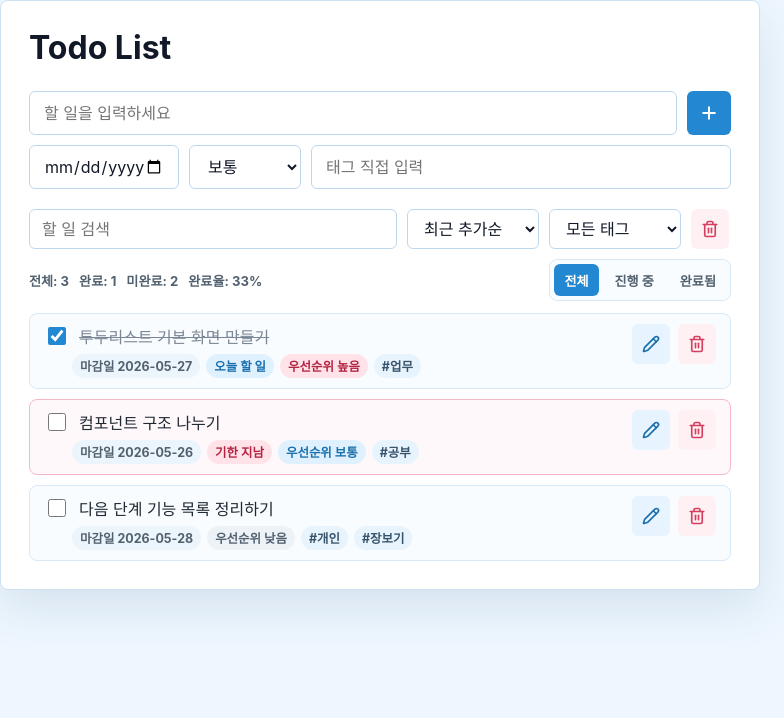
Test: TodoApp › 추가된 할 일을 수정할 수 있다.
In the field named "할 일 입력": (353, 113) [29,91,677,135], type "수정 전 할 일"
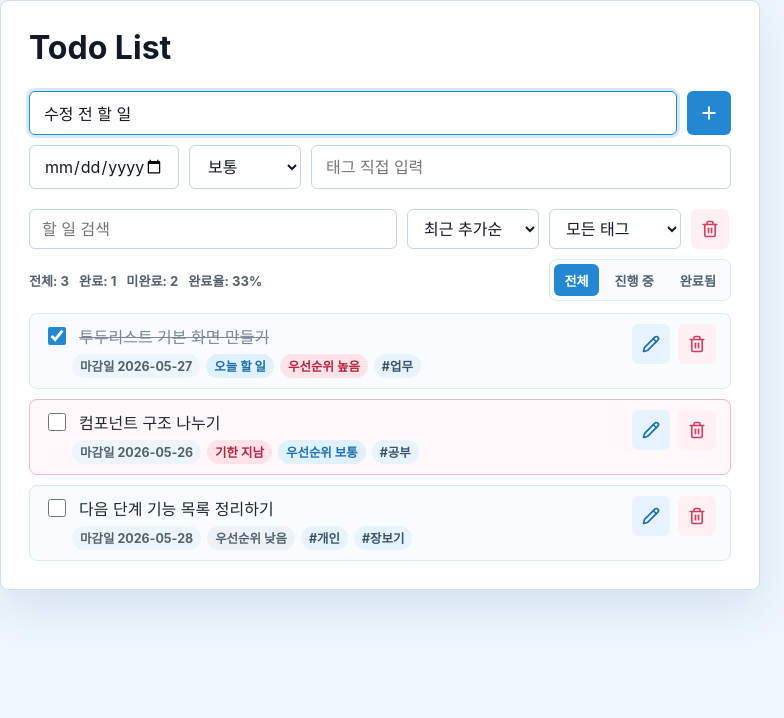
Click the button named "할 일 추가": (709, 113) [687,91,731,135]
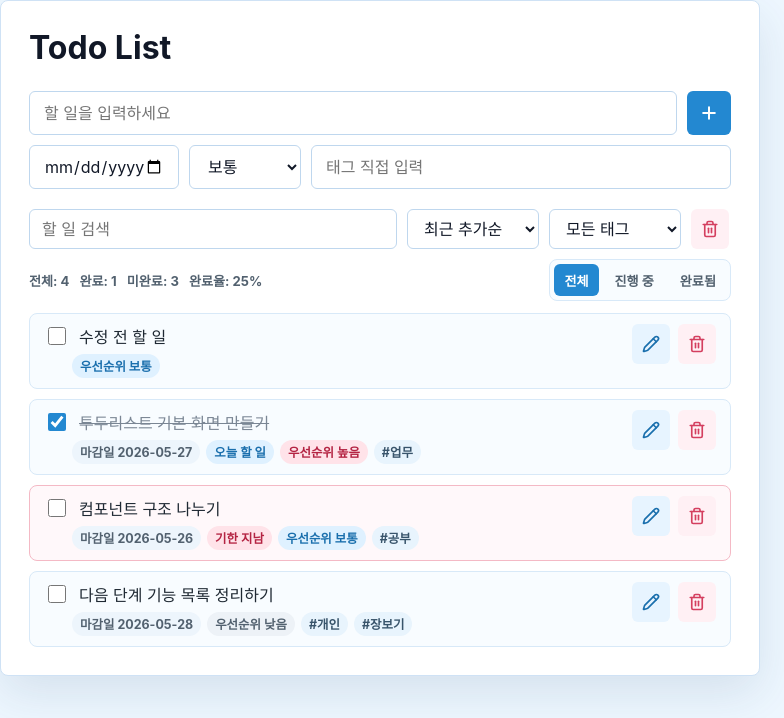
Click the button named "수정 전 할 일 편집": (651, 344) [632,324,670,364]
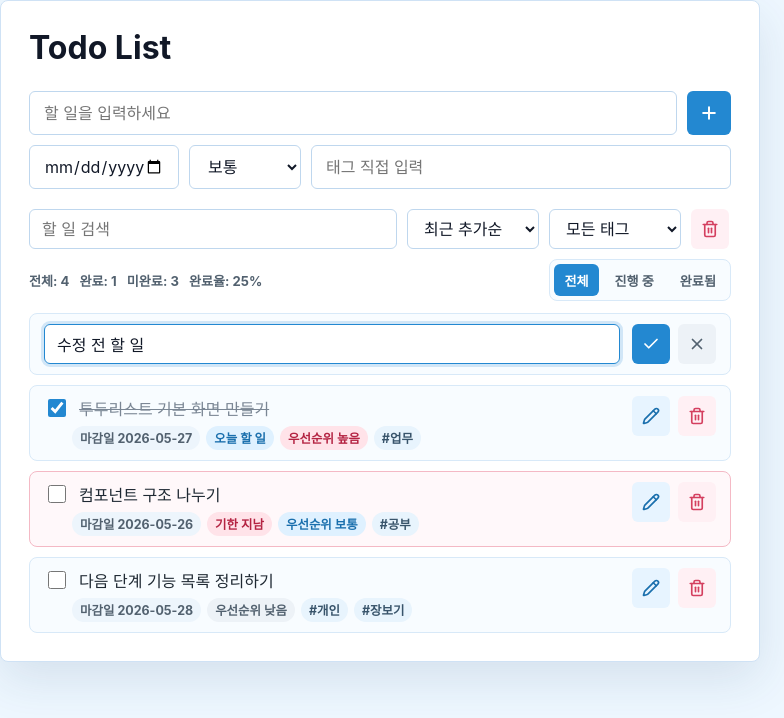
Replace the text in the field named "할 일 수정" with "수정 후 할 일": (332, 344) [44,324,620,364]
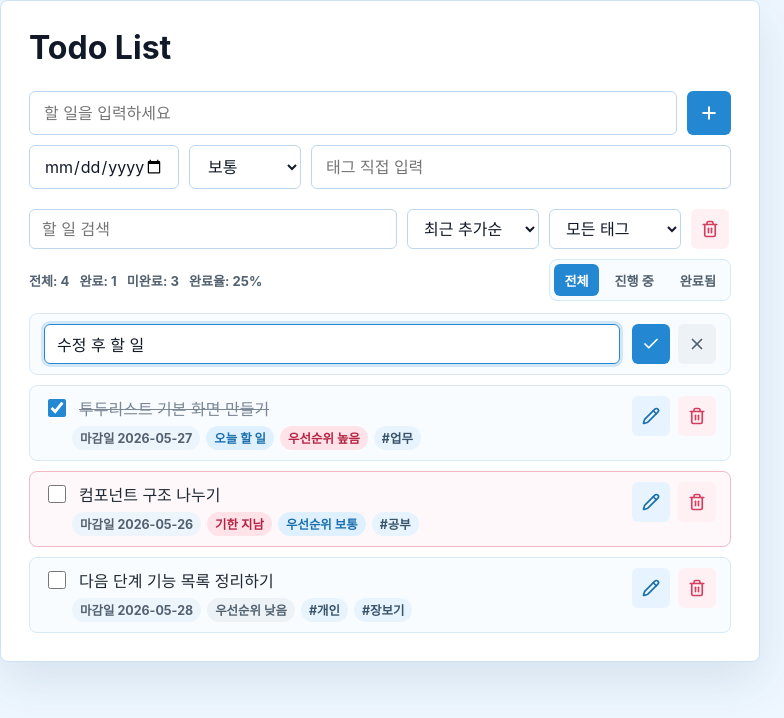
Click the button named "저장": (651, 344) [632,324,670,364]
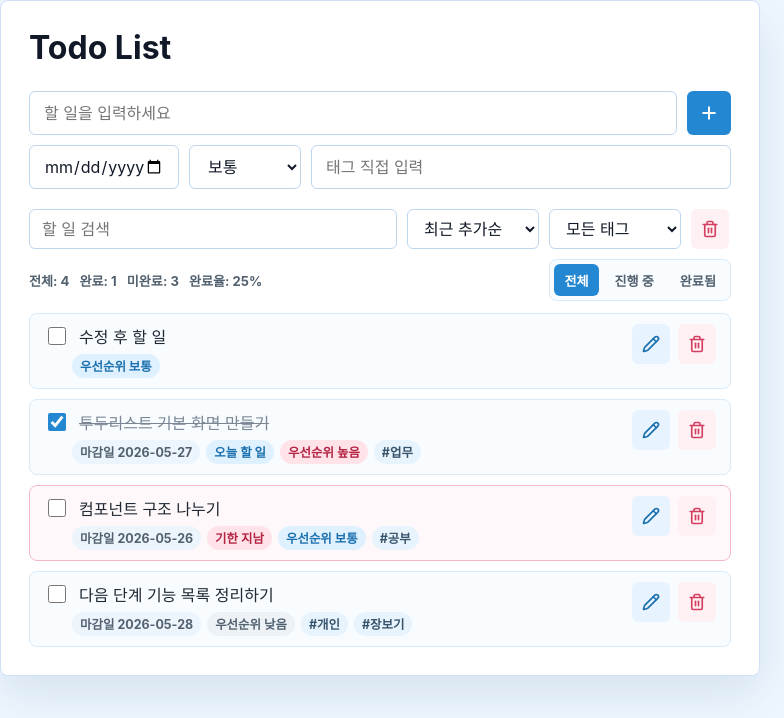
Expected: the text "수정 전 할 일" is not shown
Expected: the text "수정 후 할 일" is shown, [79,324,166,348]
